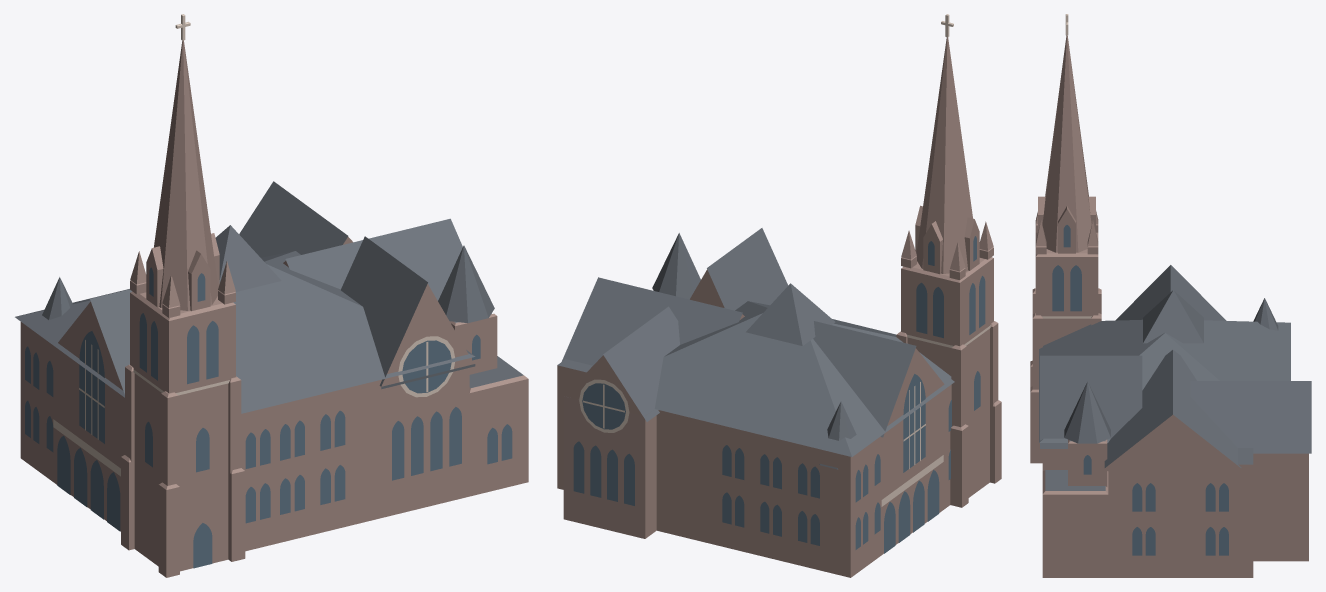
File: den-trinity-united-methodist.glb
The picture shows the model from 3 angles, left to right: view 1: azimuth 30°, elevation 25°; view 2: azimuth 150°, elevation 25°; view 3: azimuth 270°, elevation 25°; orthographic projection. The views are drawn at different scales.
Visible parts, largest first — view 1: Trinity United Methodist Church; view 2: Trinity United Methodist Church; view 3: Trinity United Methodist Church.
Boxes of the visible parts, x1,y1,x2,y2 form: Trinity United Methodist Church: (15, 14, 528, 577); Trinity United Methodist Church: (557, 14, 1001, 577); Trinity United Methodist Church: (1030, 14, 1311, 577).
Size of the model in its own units: 38.83 by 53.5 by 31.44.
